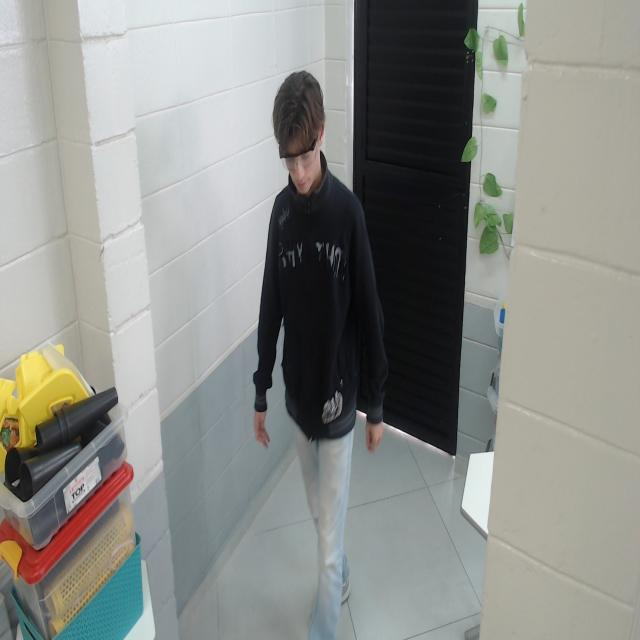oculos-epi: (279, 137, 317, 172)
